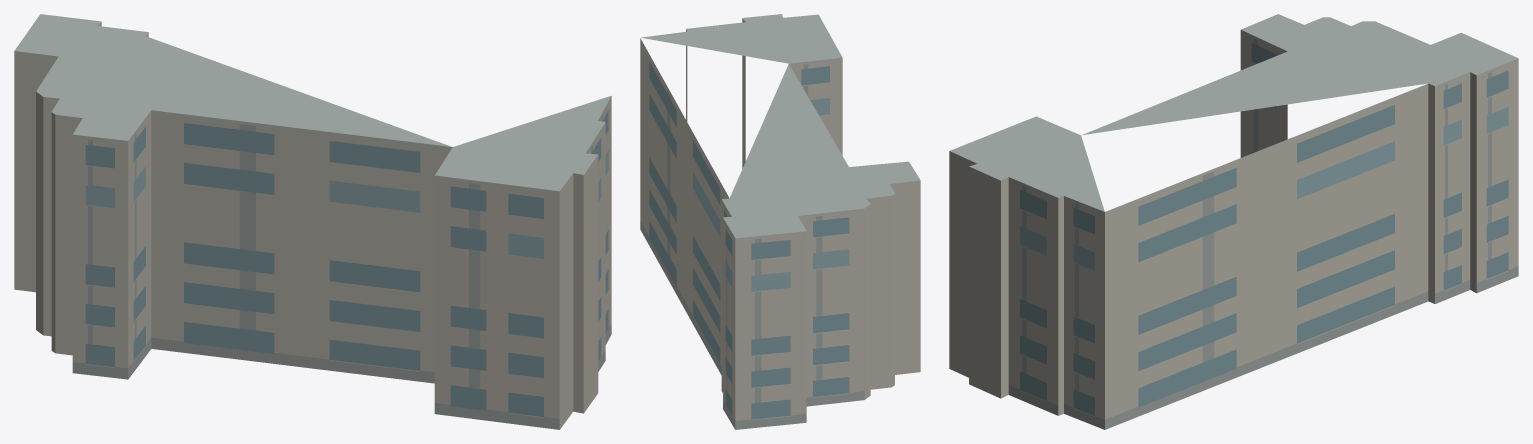
Rendered from survey-upis-32672912.glb.
The picture shows the model from 3 angles, left to right: view 1: azimuth 30°, elevation 25°; view 2: azimuth 150°, elevation 25°; view 3: azimuth 270°, elevation 25°; orthographic projection. The views are drawn at different scales.
Visible parts, largest first — view 1: survey-upis-32672912.tmp; view 2: survey-upis-32672912.tmp; view 3: survey-upis-32672912.tmp.
Boxes of the visible parts, <box> form: survey-upis-32672912.tmp: <box>14,14,611,429</box>; survey-upis-32672912.tmp: <box>640,14,920,429</box>; survey-upis-32672912.tmp: <box>949,14,1518,429</box>.
Bounding box in the file's own units: 35.66 × 18.3 × 43.32.
